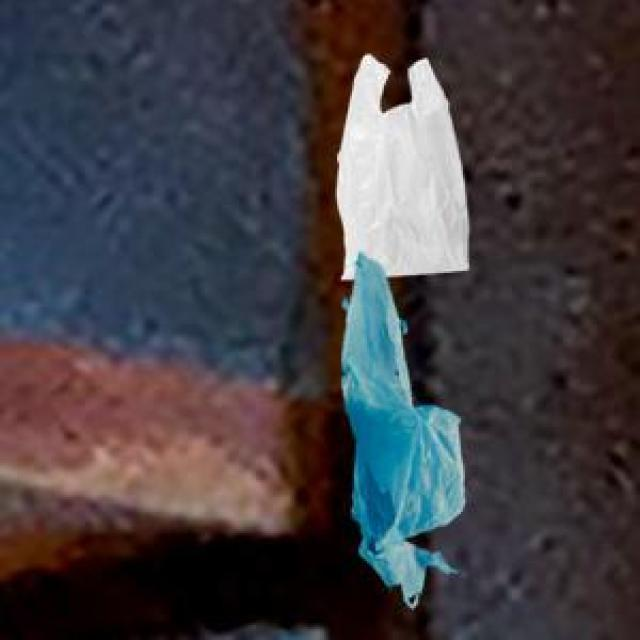waste: (338, 55, 469, 607)
